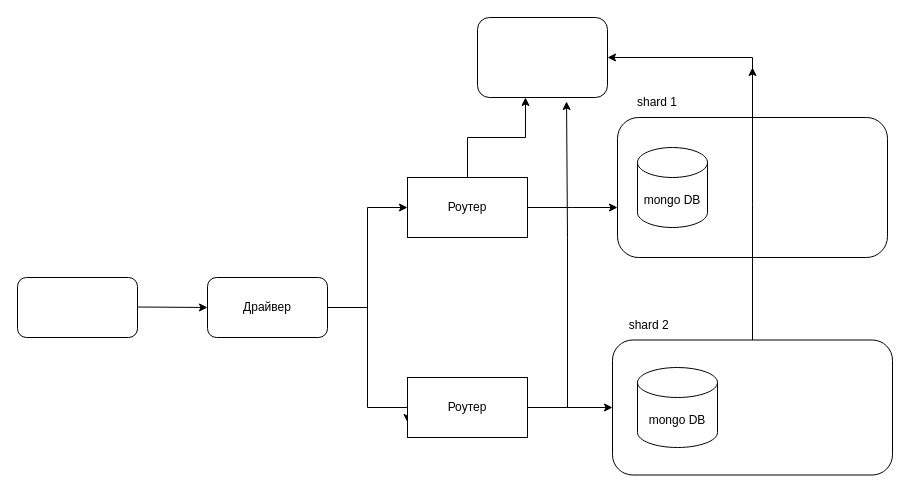
Image size: 910x493. Some labels were removed from this diagram. The centre of each missing label's shape, as x and y in pixels:
pymongo-api: point 77,307
Конфигурационный сервер: point 542,57
